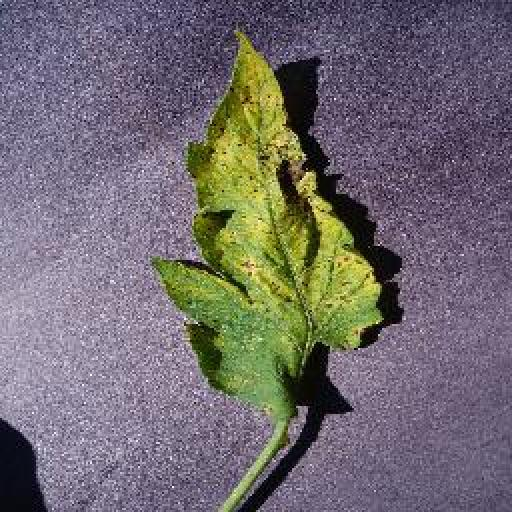disease_tomato: (159, 29, 384, 432)
